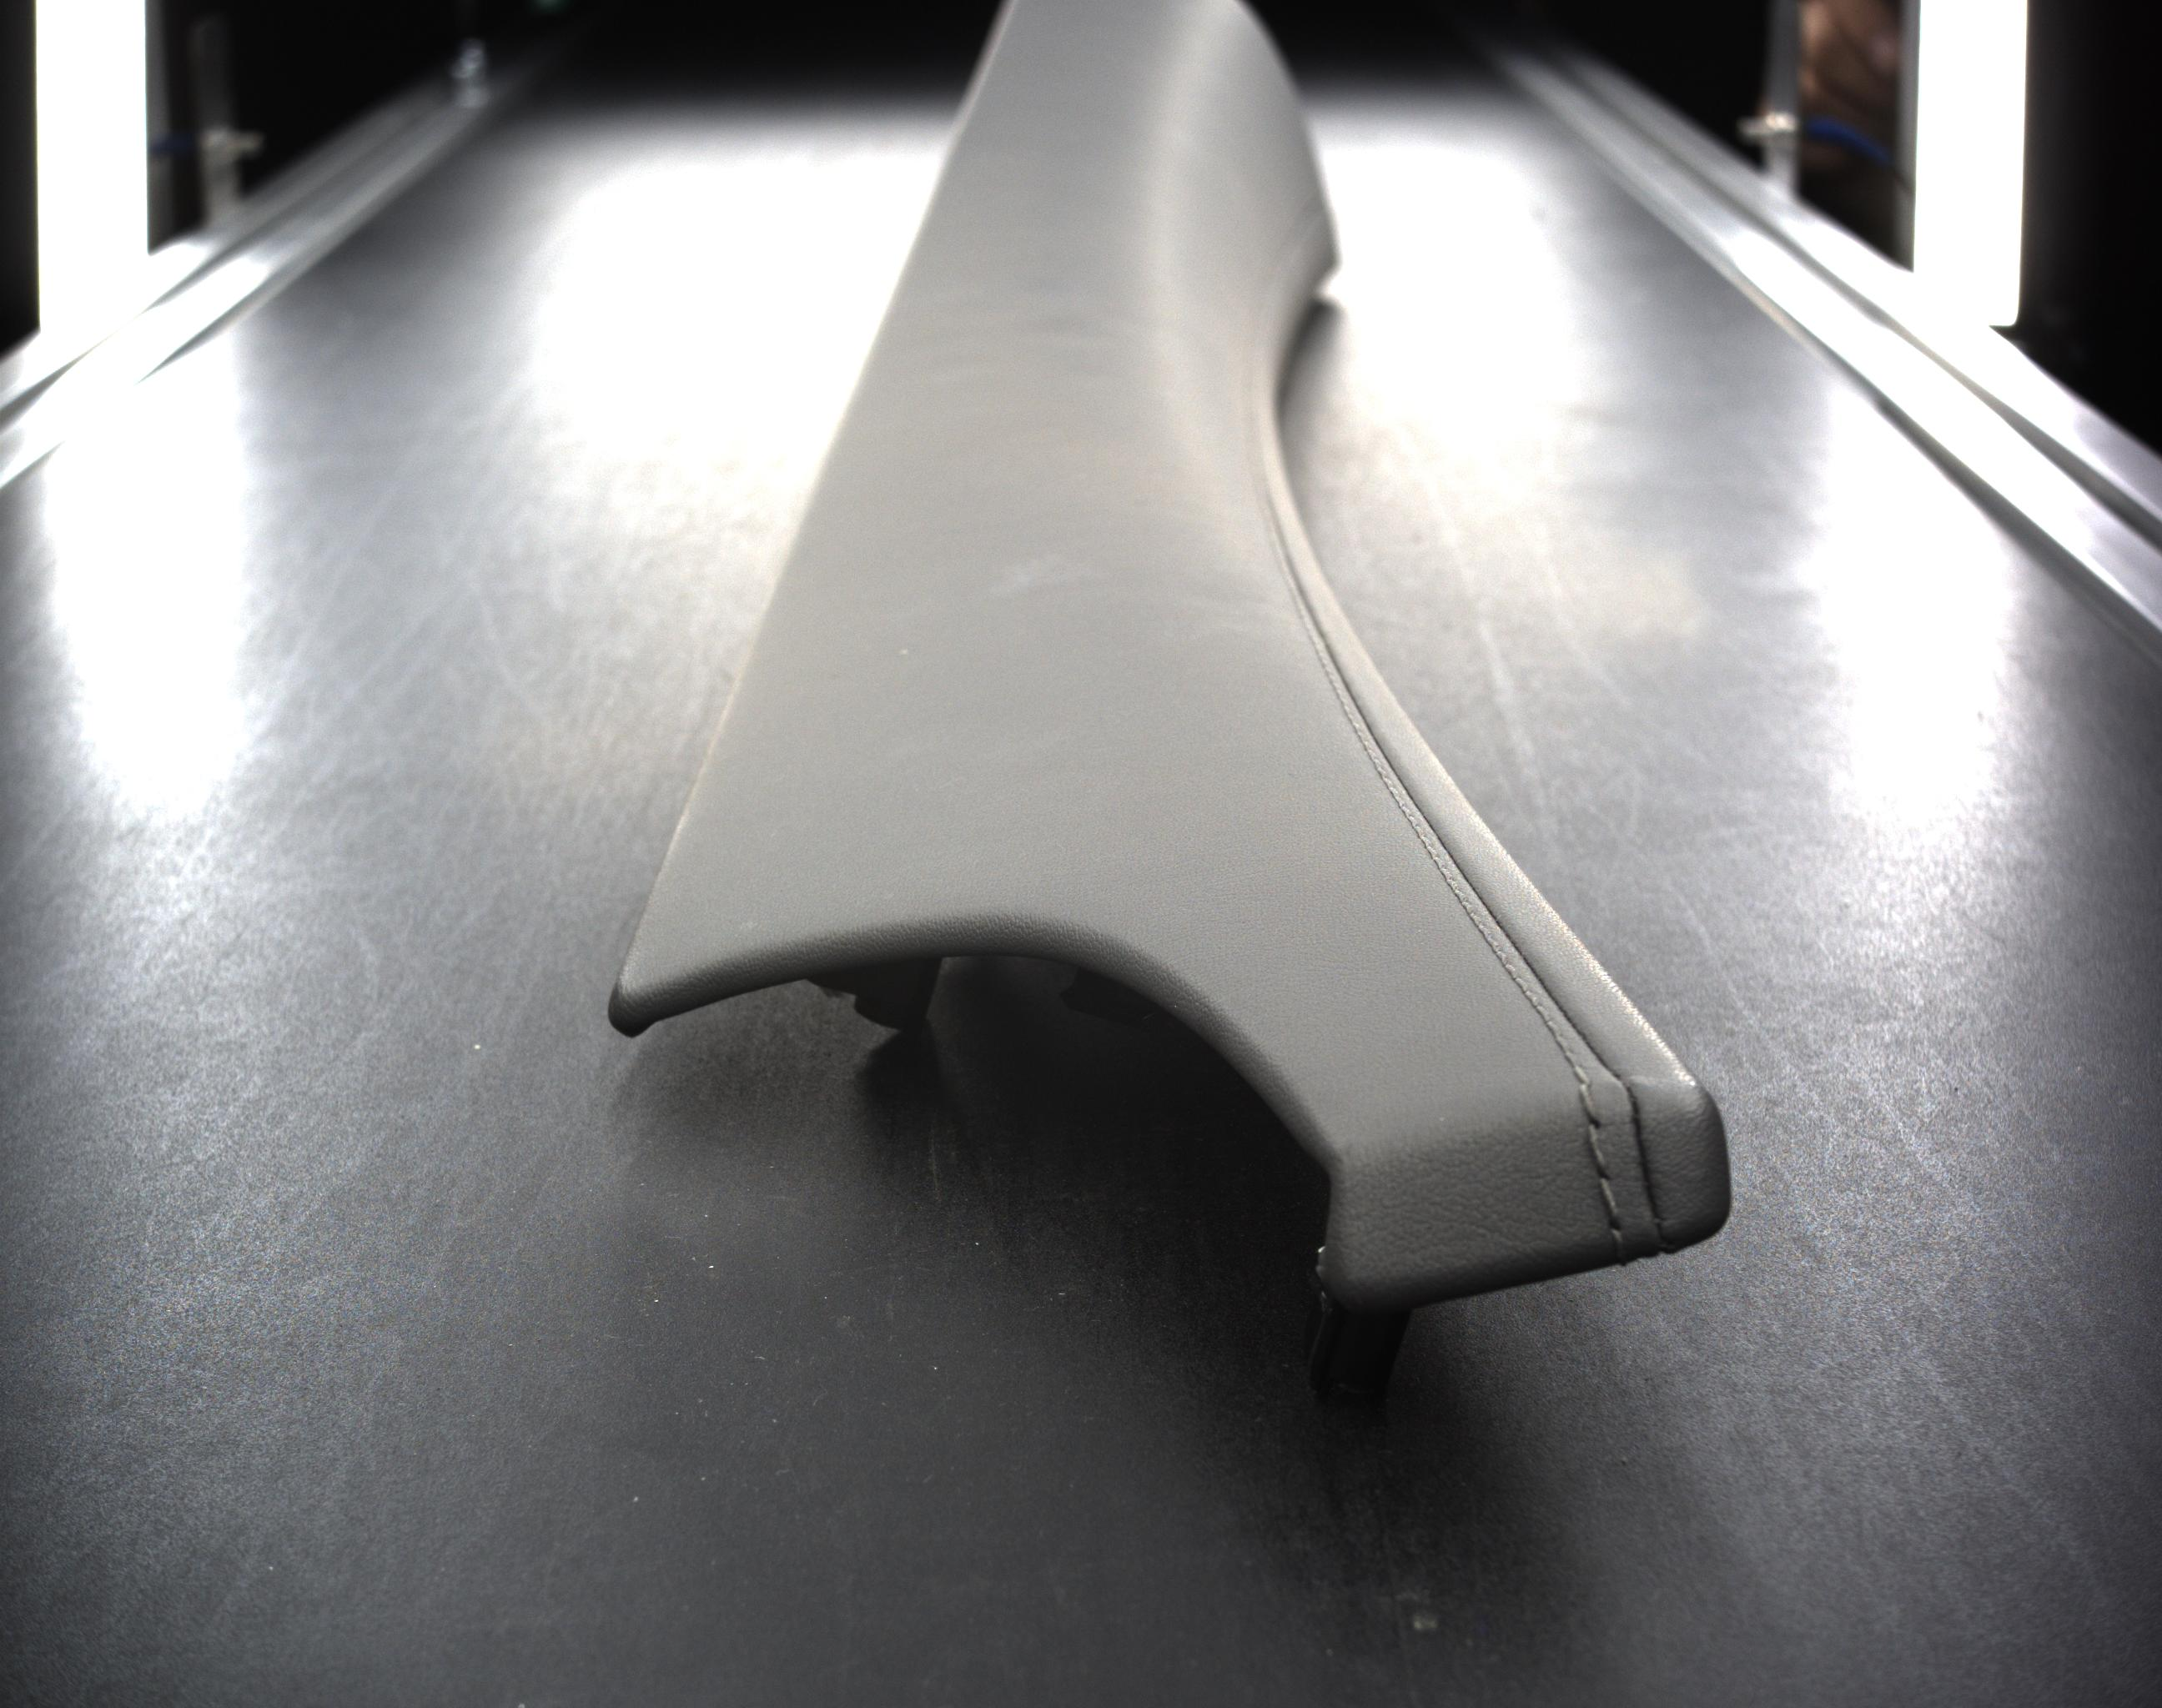vline: (1586, 1123, 1609, 1174), (1600, 1183, 1621, 1225), (1578, 1085, 1600, 1120)
